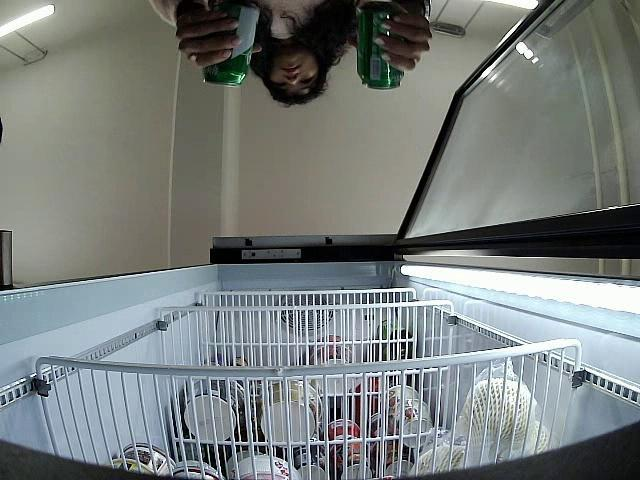12_chilsungCider: (202, 0, 258, 88), (358, 0, 405, 89)
